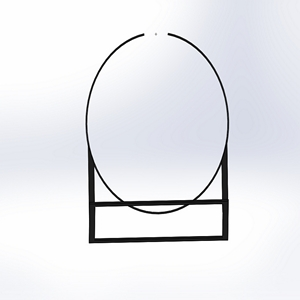circle: (83, 28, 232, 245)
